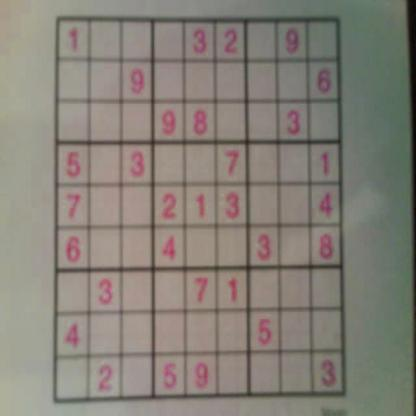sudoku: (51, 12, 350, 406)
